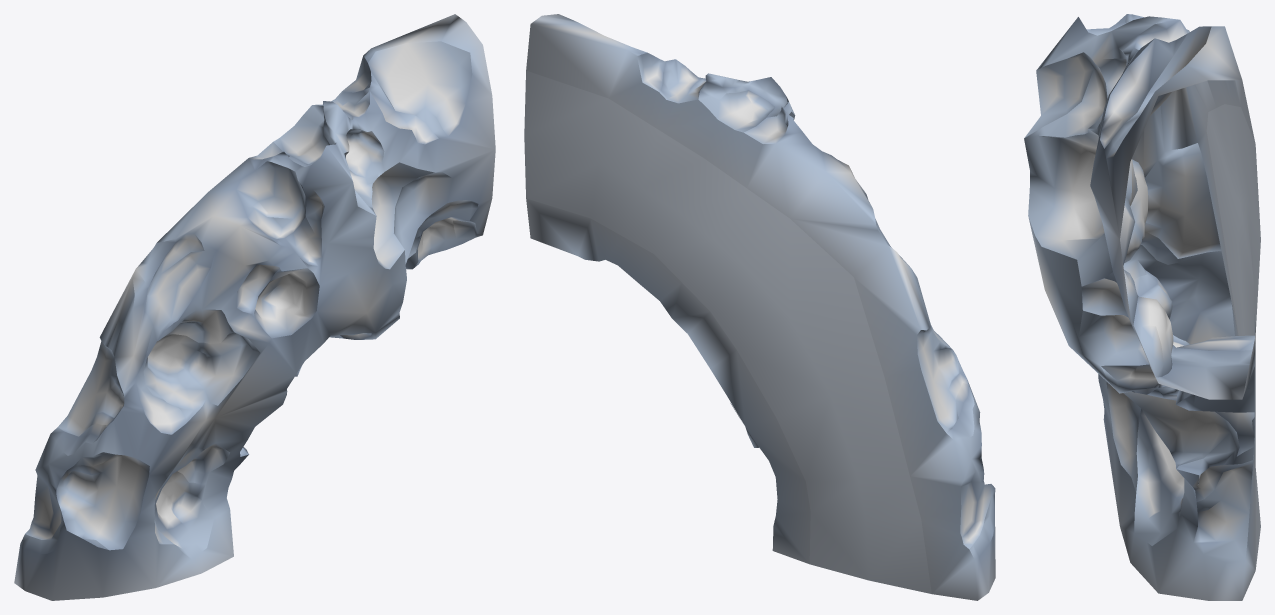
The model's file is Cave_IceCaveCurveA.glb.
3 views of the same model, side by side, from view 1: azimuth 30°, elevation 25°; view 2: azimuth 150°, elevation 25°; view 3: azimuth 270°, elevation 25° (orthographic). The views are drawn at different scales.
Parts seen in each view (by area): view 1: MeshNode_0; view 2: MeshNode_1, MeshNode_0; view 3: MeshNode_0, MeshNode_1.
Part boxes in pixels (bbox=[...]): MeshNode_0: bbox=[14, 14, 495, 600]; MeshNode_1: bbox=[524, 70, 931, 593]; MeshNode_0: bbox=[526, 14, 995, 600]; MeshNode_0: bbox=[1024, 14, 1255, 600]; MeshNode_1: bbox=[1206, 104, 1260, 569].
Size of the model in its own units: 83.03 by 83.03 by 25.59.
